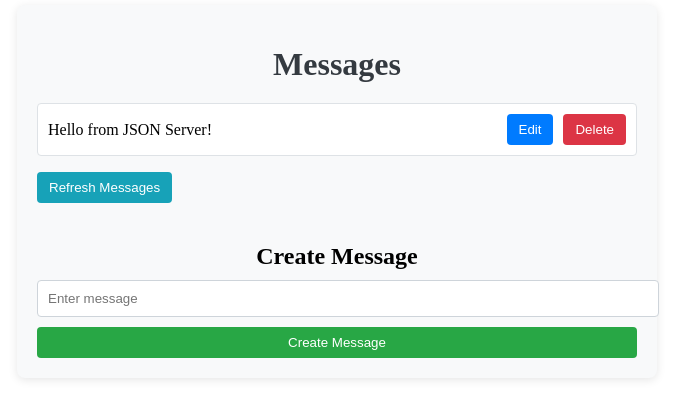
Test: MessageList.vue › refreshes messages on button click
Expected: the number of list items with class "message-item" is 1, [37,103,637,156]
Click the button with class "refresh" at [105, 188], box [37,172,172,203]
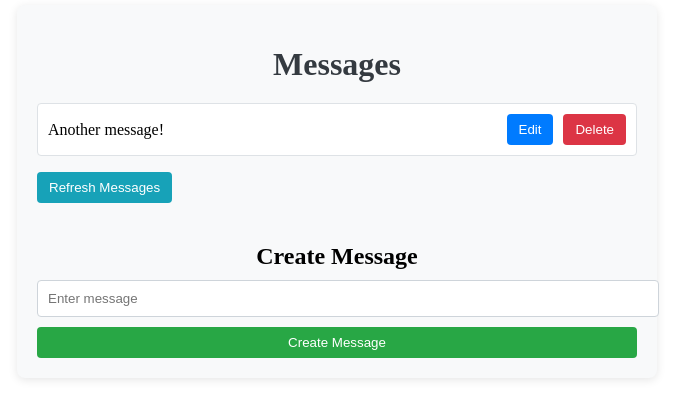
Expected: the number of list items with class "message-item" is 1, [37,103,637,156]
Now the text with class "message-content" reads "Another message!", box [48,121,164,138]
